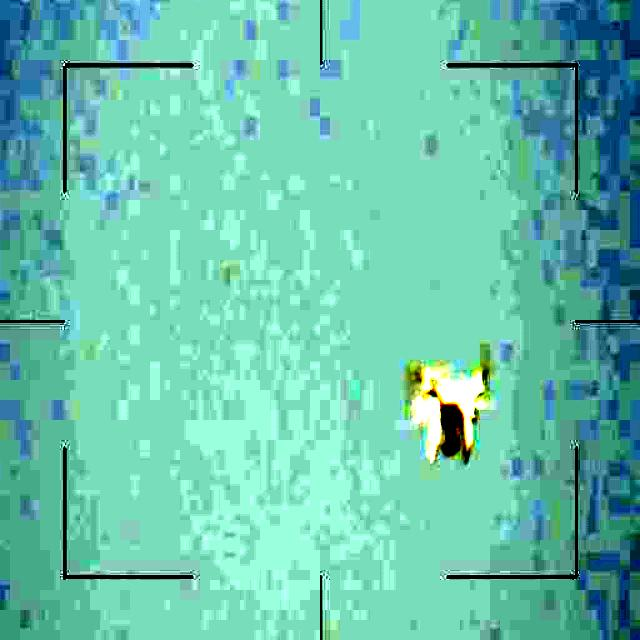bird: (408, 368, 494, 462)
